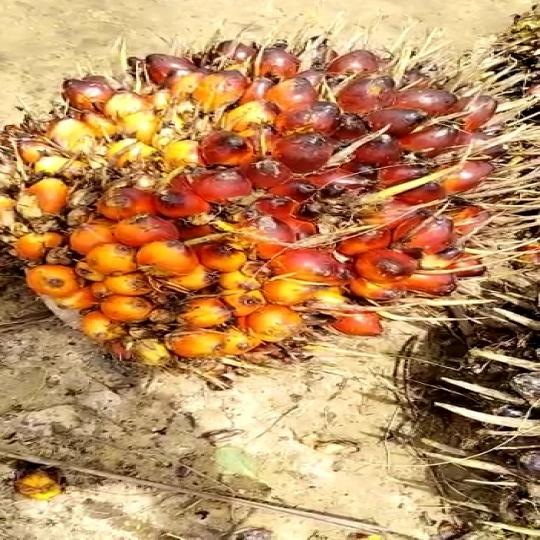masak: (0, 3, 540, 374)
